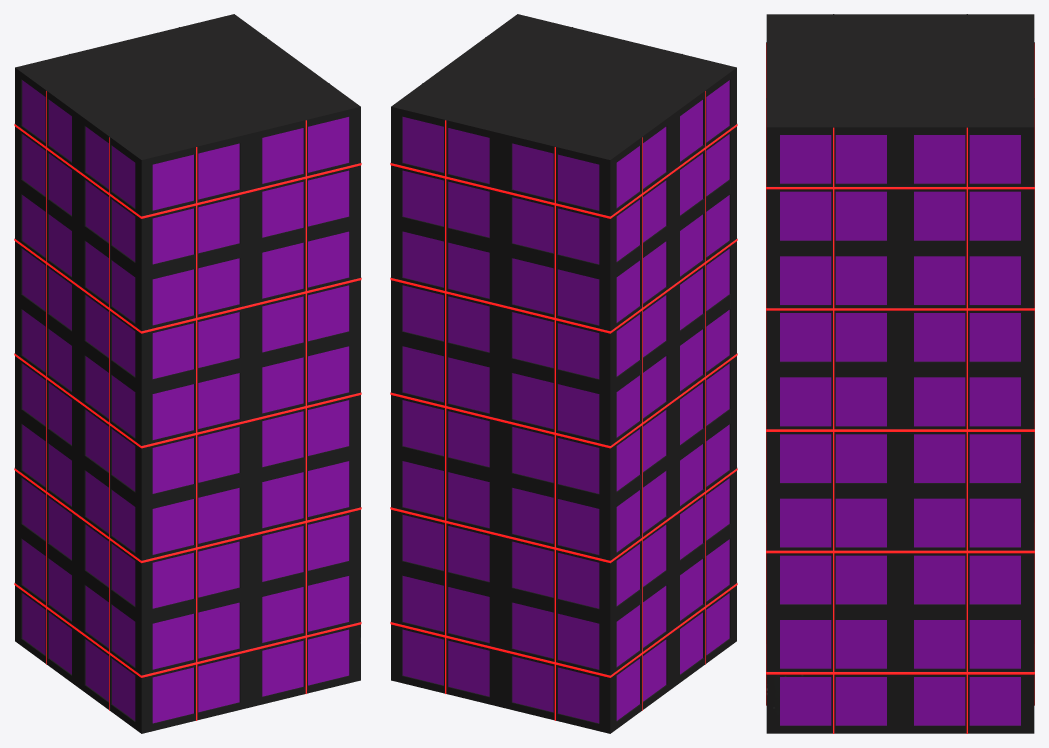
Rendered from CuberpunkBuilding.fbx.
The picture shows the model from 3 angles, left to right: view 1: azimuth 30°, elevation 25°; view 2: azimuth 150°, elevation 25°; view 3: azimuth 270°, elevation 25°; orthographic projection. The views are drawn at different scales.
Parts seen in each view (by area): view 1: Cube; view 2: Cube; view 3: Cube.
Boxes of the visible parts, <box> form: Cube: <box>14,14,361,733</box>; Cube: <box>390,14,737,733</box>; Cube: <box>766,14,1034,733</box>.
Size of the model in its own units: 4020 by 10000 by 4020.
Materials: 3 (3 with a texture image).
